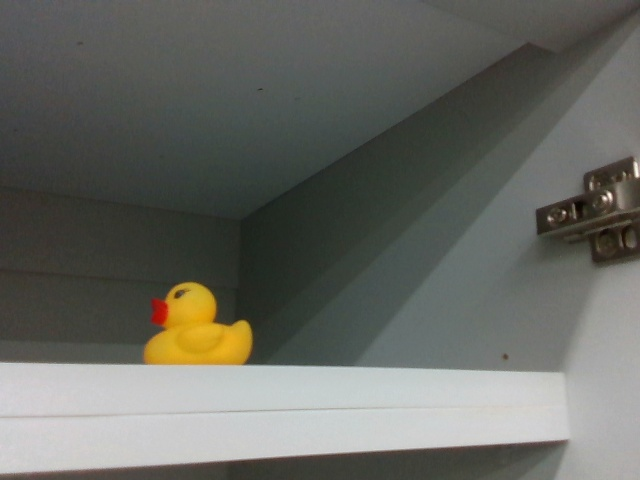duck: (139, 278, 255, 368)
